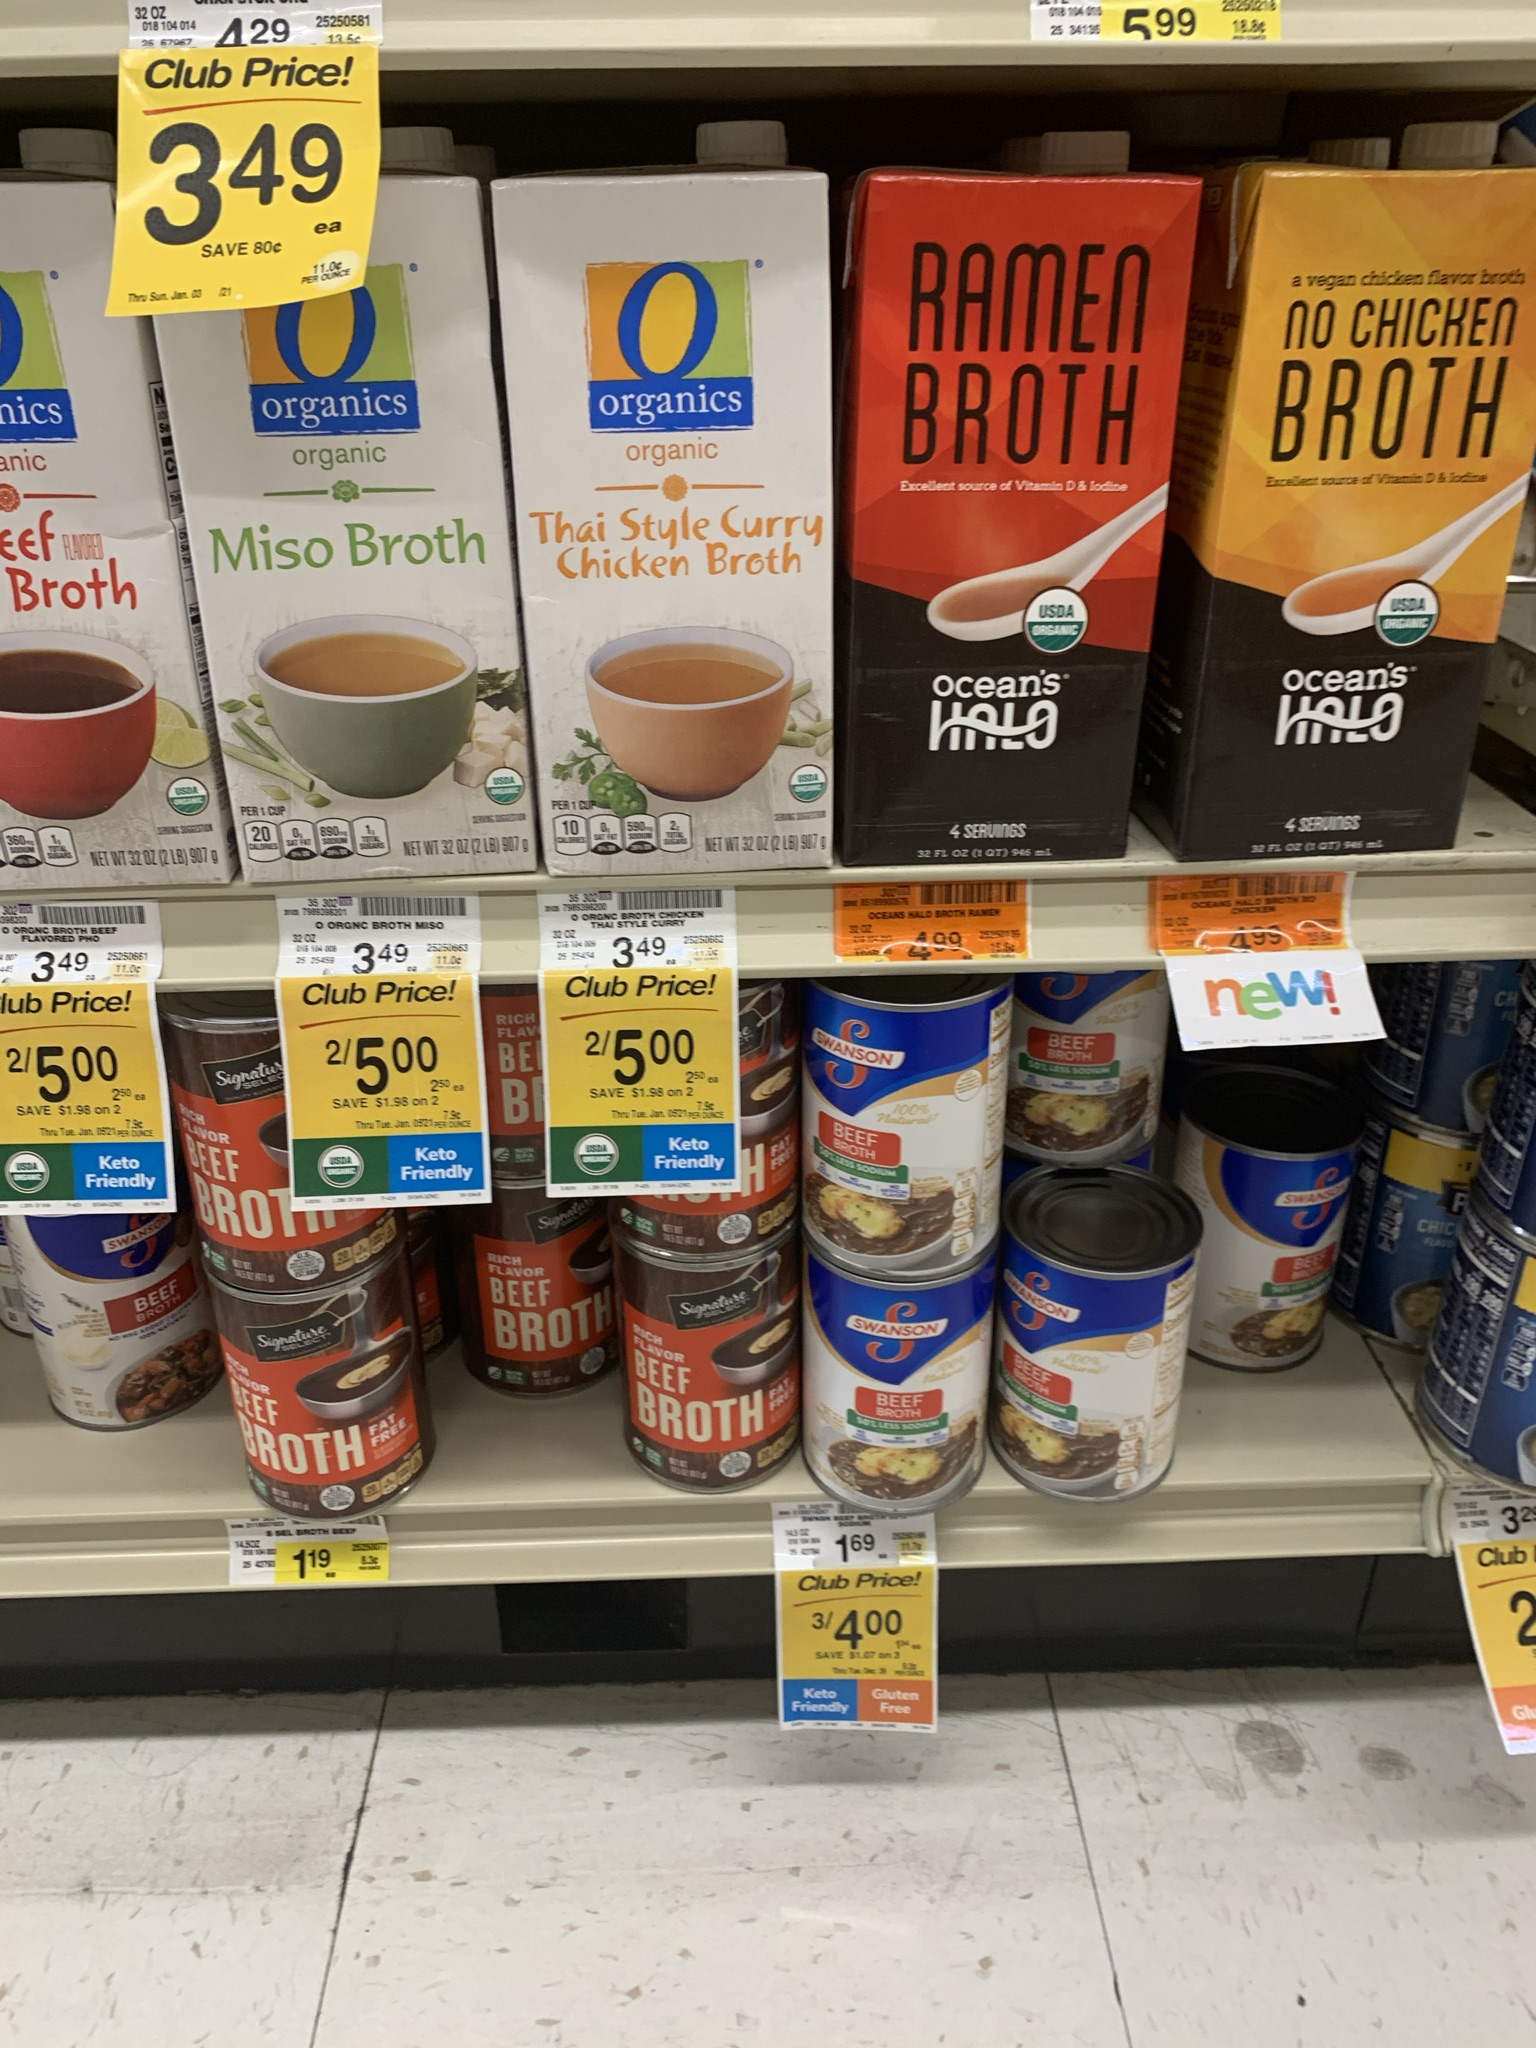box: (523, 176, 828, 868), (860, 164, 1158, 860), (1250, 171, 1525, 856)
can: (821, 997, 986, 1247), (816, 1264, 987, 1505), (1021, 1259, 1179, 1487), (239, 1306, 410, 1501), (632, 1268, 774, 1480), (1217, 1147, 1325, 1355), (471, 1226, 599, 1384)
